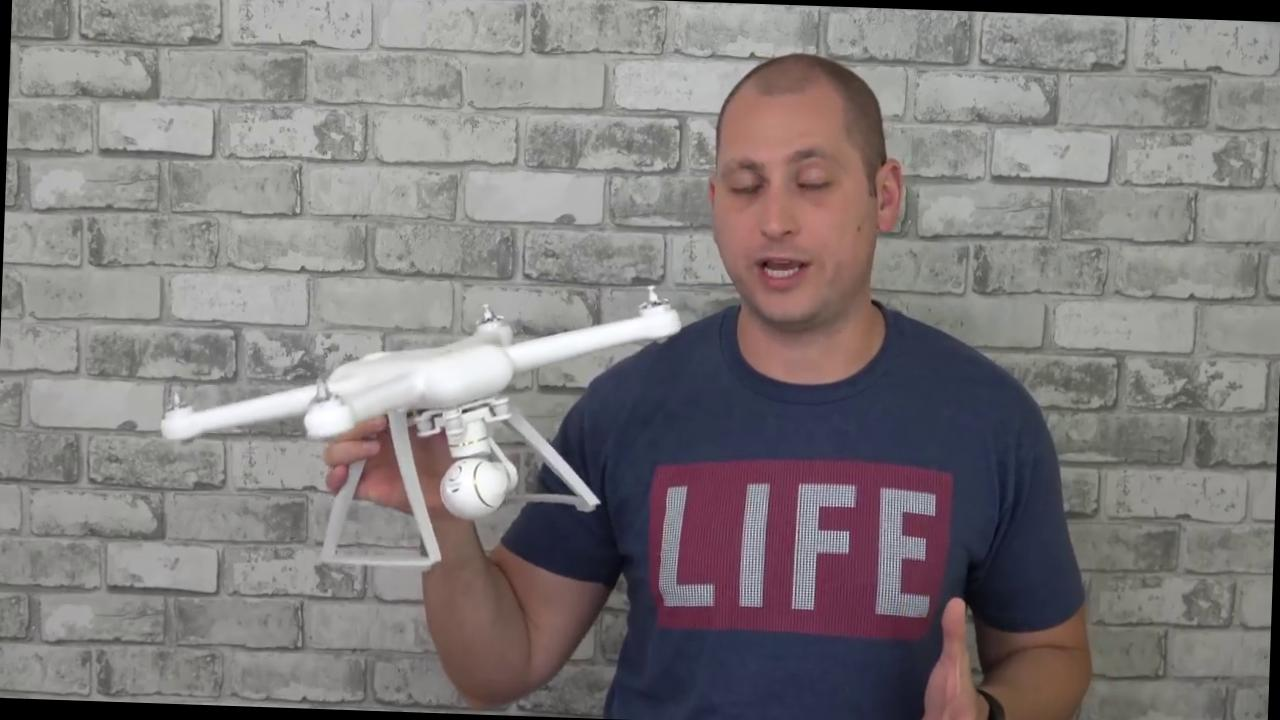drone: (146, 260, 696, 462)
